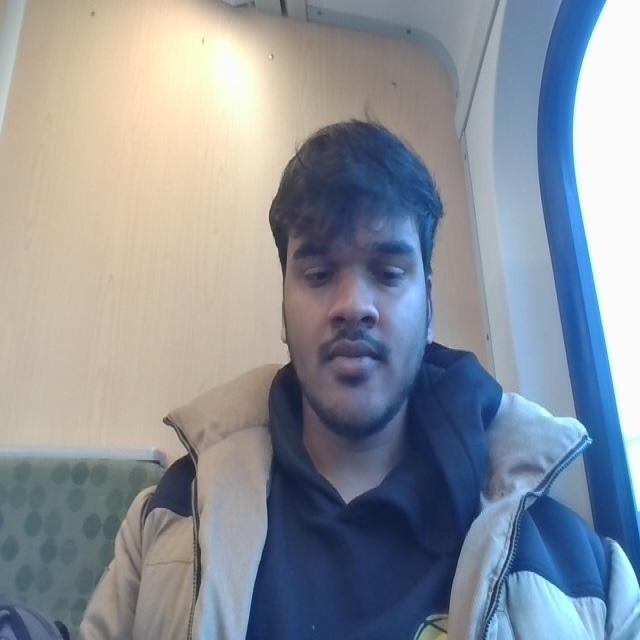no hat: (257, 113, 444, 220)
